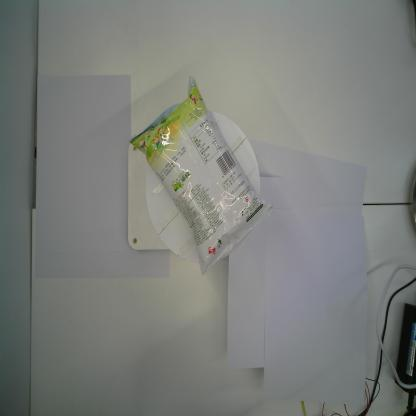Puffed Food: (128, 72, 276, 278)
